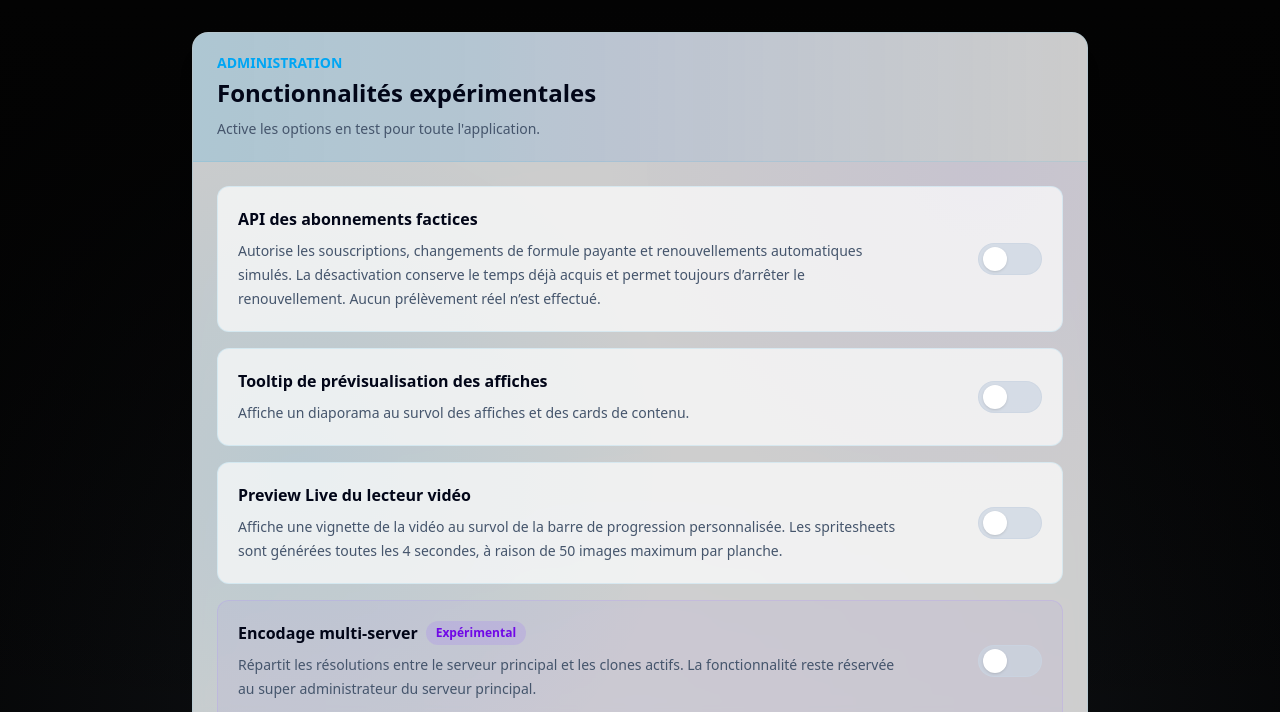
Scenario: AdminExperimentalFeatures - encodage multi-server › conserve l'état du toggle des abonnements si la sauvegarde échoue
The width and height of the screenshot is (1280, 712).
Click the switch named "API des abonnements factices" at (1010, 259), box 978,243 -> 1042,275
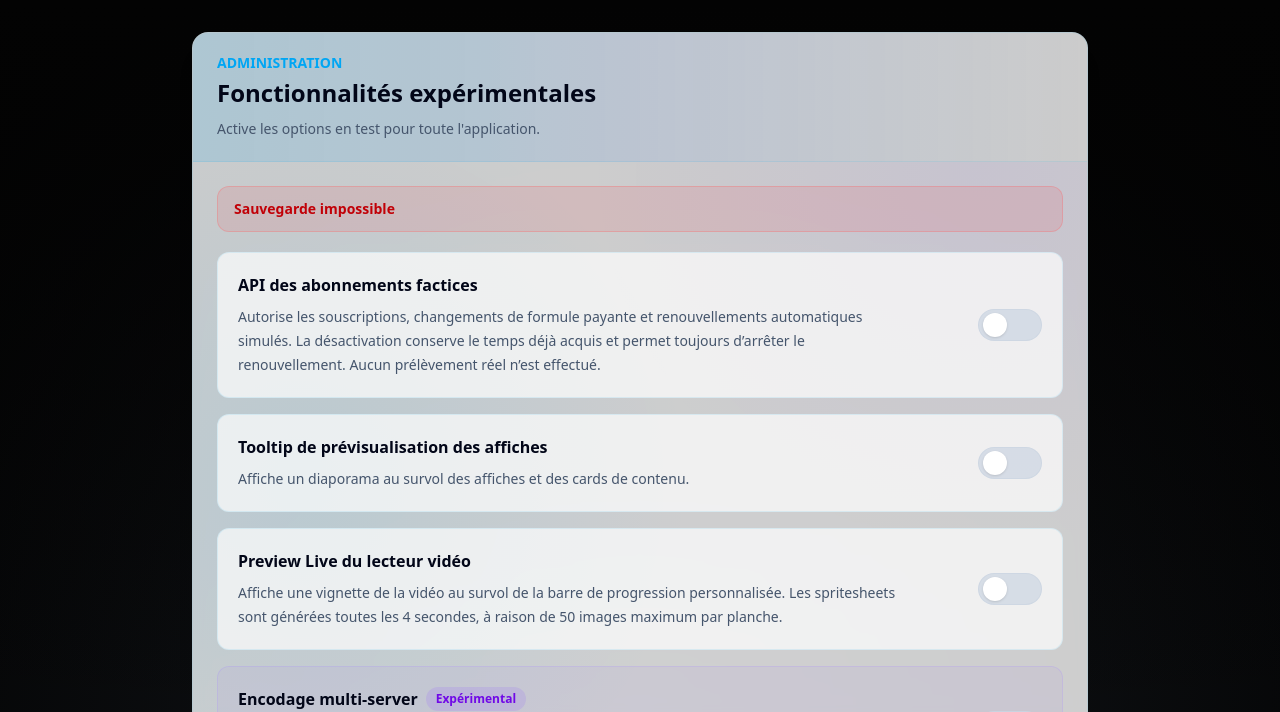
Expected: the text "Sauvegarde impossible" is shown, 217,186 -> 1063,232
